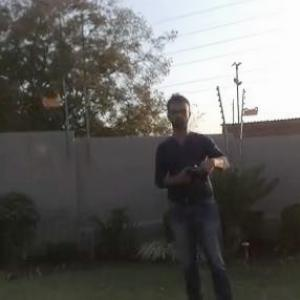follow: (148, 85, 238, 299)
